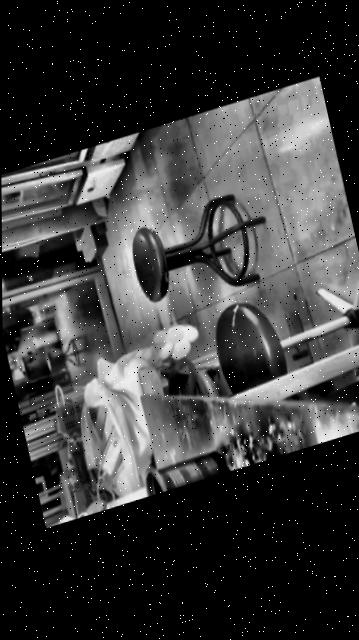pot: (143, 453, 226, 498)
